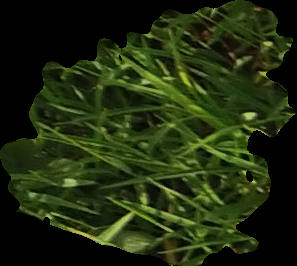grass: (1, 1, 295, 265)
